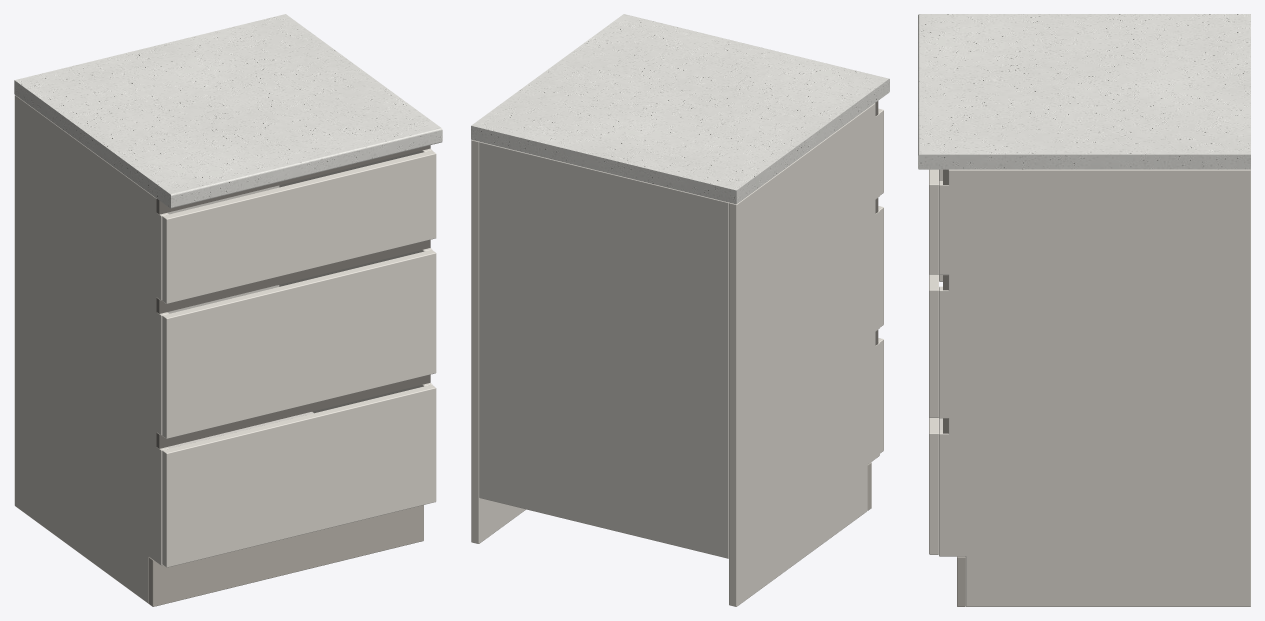
Rendered from counter_drawer_60.glb.
3 renders of one model, left to right at view 1: azimuth 30°, elevation 25°; view 2: azimuth 150°, elevation 25°; view 3: azimuth 270°, elevation 25°, orthographic. The views are drawn at different scales.
Parts seen in each view (by area): view 1: counter_drawer_60_fronts, counter_drawer_60_carcass, counter_drawer_60_countertop, counter_drawer_60_gola; view 2: counter_drawer_60_carcass, counter_drawer_60_countertop, counter_drawer_60_fronts; view 3: counter_drawer_60_carcass, counter_drawer_60_countertop, counter_drawer_60_fronts.
Boxes of the visible parts, left/top/right/bottom form: counter_drawer_60_fronts: left=162, top=150, right=436, bottom=567; counter_drawer_60_carcass: left=14, top=95, right=432, bottom=606; counter_drawer_60_countertop: left=14, top=14, right=442, bottom=208; counter_drawer_60_gola: left=156, top=145, right=430, bottom=448; counter_drawer_60_carcass: left=471, top=103, right=879, bottom=606; counter_drawer_60_countertop: left=471, top=14, right=889, bottom=204; counter_drawer_60_fronts: left=878, top=108, right=883, bottom=453; counter_drawer_60_carcass: left=939, top=169, right=1250, bottom=606; counter_drawer_60_countertop: left=918, top=14, right=1250, bottom=169; counter_drawer_60_fronts: left=929, top=169, right=938, bottom=554.
Size of the model in its own units: 0.6 by 0.9 by 0.6.
5 materials, 1 textured.
